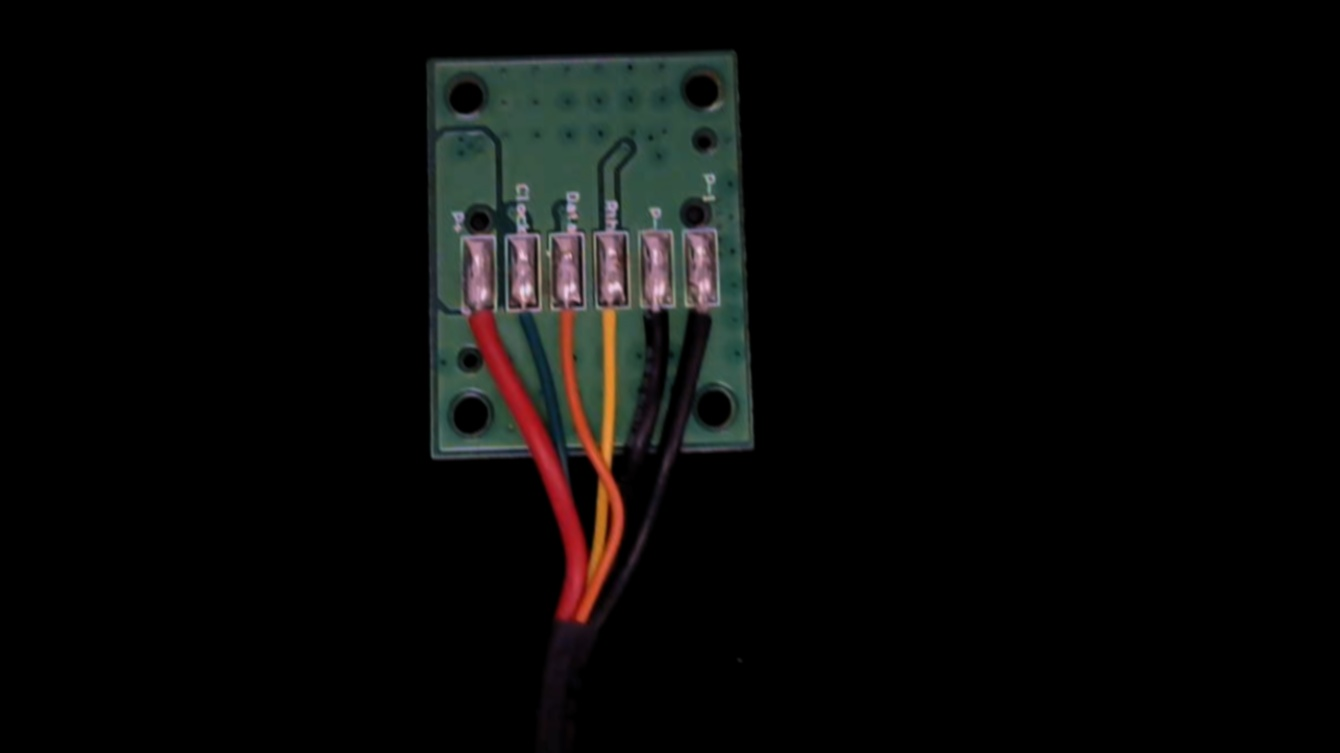Black: (634, 291, 678, 368)
Black1: (683, 288, 723, 371)
Green: (506, 289, 543, 366)
Orange: (549, 289, 586, 378)
Red: (457, 292, 496, 378)
Yellow: (593, 288, 631, 367)
